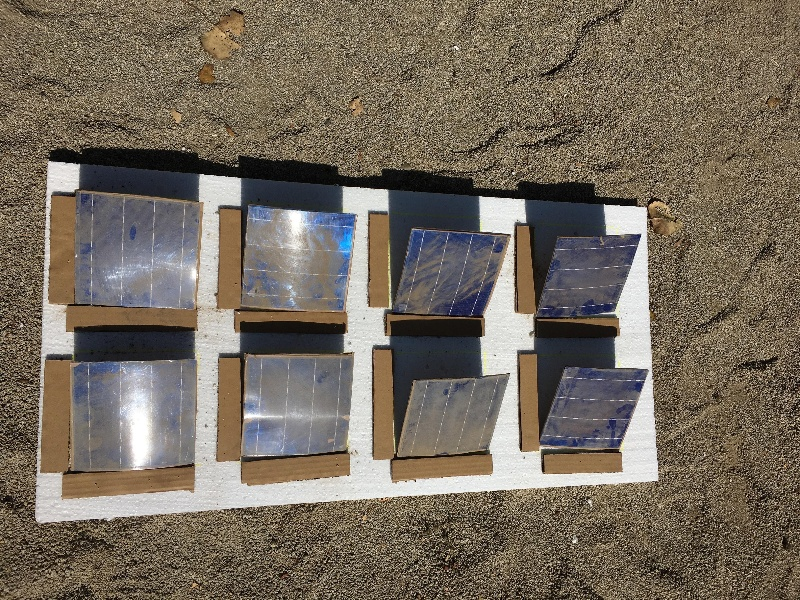dirty: (57, 364, 213, 472), (75, 187, 198, 311), (246, 207, 352, 312), (245, 353, 352, 453), (399, 230, 510, 318), (405, 371, 509, 457), (548, 366, 642, 453), (539, 237, 637, 312)
